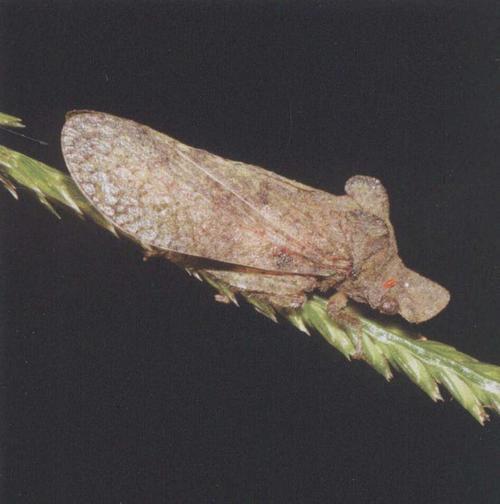Cicadellidae: (61, 107, 450, 324)
